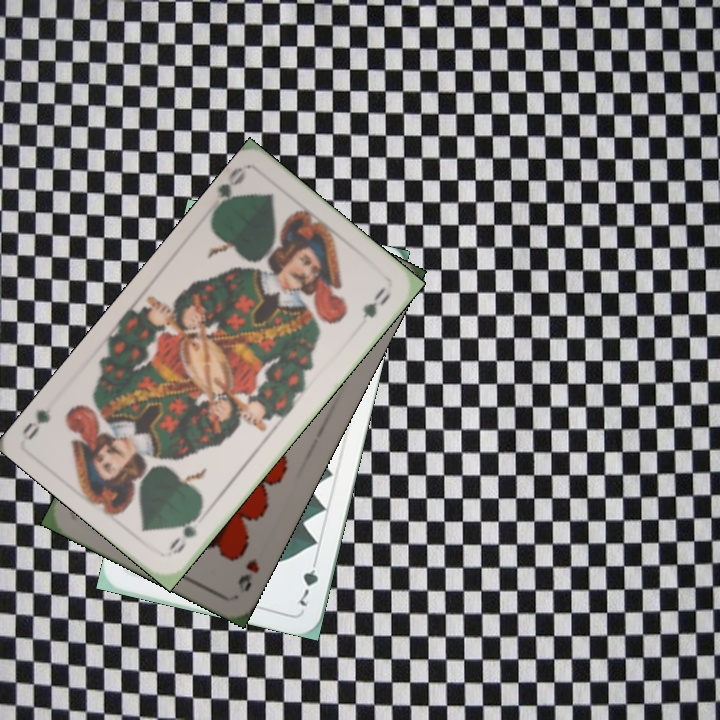G7: (295, 552, 321, 609)
GO: (208, 163, 249, 216), (164, 507, 204, 557)
H9: (233, 555, 262, 596)
